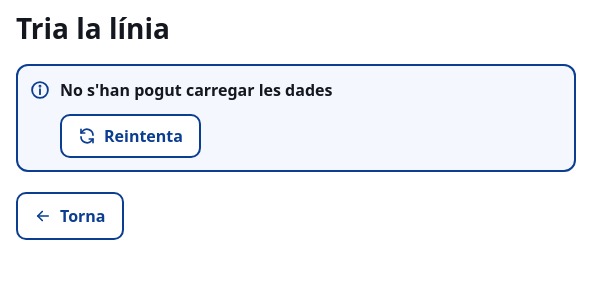
Test: ServicePicker › [driver_ui.AC-02] shows the texts without departures and of error in Valencian
Check: the text "No s'han pogut carregar les dades" is shown, box [60,79,332,101]
Click the button "Reintenta".
click(130, 136)  # box [60,114,201,158]
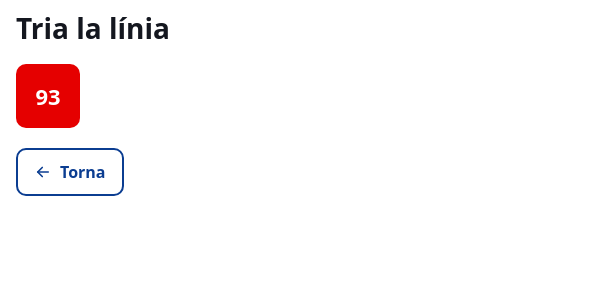
Click the button named "Línia 93".
click(48, 96)  # box [16,64,80,128]
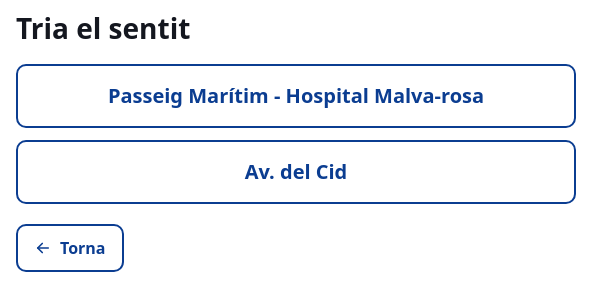
Click the button "Passeig Marítim - Hospital Malva-rosa".
click(296, 96)  # box [16,64,576,128]
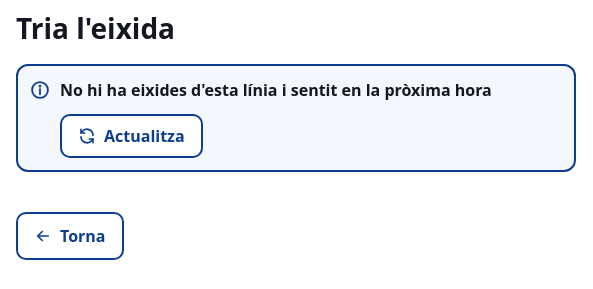
Check: the button "Torna" is shown, box [16,212,124,260]
Check: the text "No hi ha eixides d'esta línia i sentit en la pròxima hora" is shown, box [60,79,492,101]
Check: the button "Actualitza" is shown, box [60,114,203,158]
